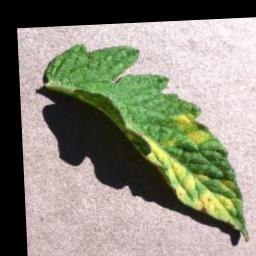Leaf_Mold: (128, 109, 251, 246)
